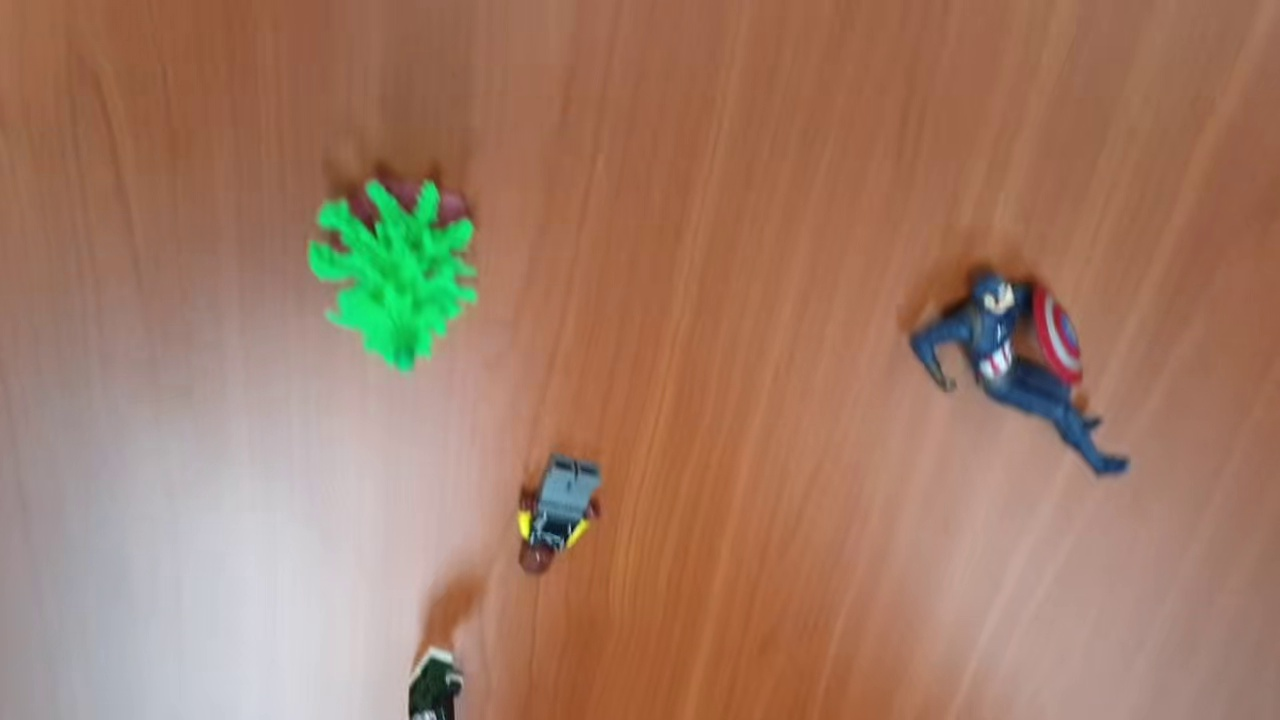people: (909, 274, 1137, 481), (511, 457, 607, 577), (402, 647, 470, 720)
tree: (304, 173, 482, 376)
